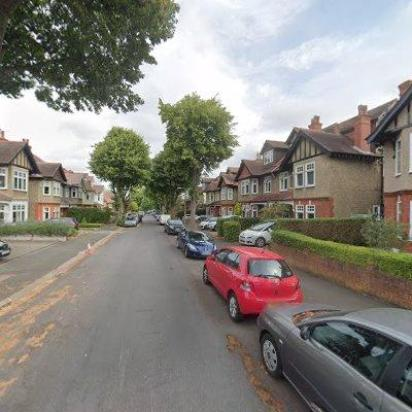stationary-car-offstreet: (239, 219, 279, 248), (0, 233, 12, 258), (199, 216, 217, 230), (220, 215, 240, 219)
stationary-car-onstreet: (256, 300, 412, 412), (201, 246, 305, 322), (176, 228, 219, 260), (164, 217, 186, 235), (124, 212, 138, 228)
stationary-light-truck-onstreet: (158, 213, 172, 225)
